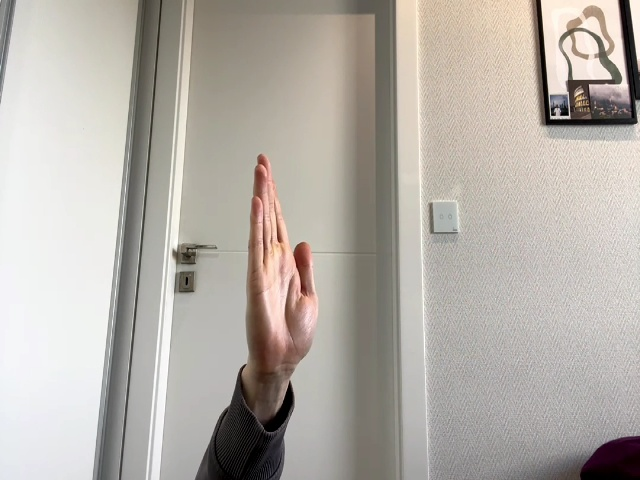SZ: (244, 154, 318, 388)
